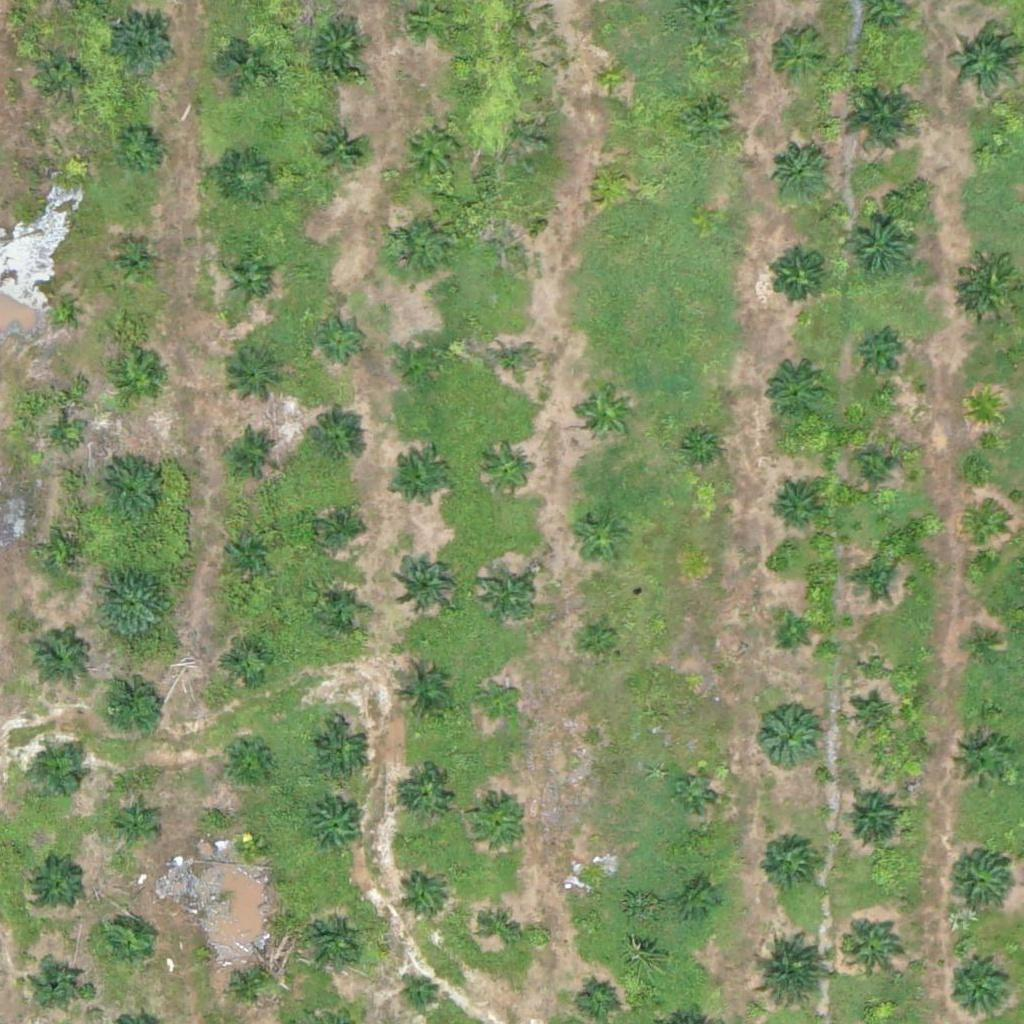Kelapa_Sawit: (839, 75, 926, 163), (92, 451, 167, 527), (96, 669, 171, 745), (96, 565, 171, 641), (947, 26, 1022, 102), (750, 938, 825, 1013), (842, 206, 917, 281), (756, 702, 819, 765), (25, 624, 88, 687), (567, 506, 630, 569), (310, 720, 373, 783), (765, 24, 828, 87), (768, 141, 831, 204), (959, 258, 1022, 321), (226, 344, 289, 407), (384, 215, 447, 278), (574, 383, 637, 446), (113, 13, 176, 76), (305, 413, 368, 476), (389, 451, 451, 514), (757, 829, 819, 892), (302, 912, 364, 975), (390, 664, 452, 727), (477, 565, 539, 628), (393, 548, 455, 611), (762, 361, 824, 424), (766, 244, 828, 307), (840, 786, 902, 849), (950, 730, 1012, 793), (948, 850, 1010, 913), (842, 915, 904, 978), (308, 17, 370, 80), (402, 118, 464, 181), (307, 799, 369, 861), (483, 444, 533, 495), (768, 482, 818, 533), (845, 552, 895, 603), (220, 152, 270, 203), (218, 34, 268, 85), (39, 50, 89, 101), (115, 123, 165, 174), (313, 123, 363, 174), (487, 338, 537, 389), (399, 336, 449, 387), (317, 313, 367, 364), (225, 255, 275, 306), (33, 955, 83, 1005), (36, 749, 86, 799), (32, 859, 82, 909), (222, 732, 272, 782), (221, 636, 271, 686), (403, 767, 453, 817), (473, 799, 523, 849), (99, 915, 149, 965), (849, 332, 899, 382), (114, 357, 164, 407), (682, 91, 732, 141), (226, 958, 276, 1008), (846, 695, 896, 745), (850, 446, 900, 496), (315, 502, 365, 552), (317, 586, 367, 636), (223, 522, 273, 572), (228, 427, 278, 477), (110, 240, 160, 290), (398, 871, 448, 921), (114, 805, 152, 843), (401, 973, 439, 1011), (965, 389, 1003, 427), (967, 511, 1005, 549), (966, 631, 1004, 669), (595, 61, 633, 99), (591, 161, 629, 199), (682, 432, 720, 470), (478, 684, 516, 722), (576, 867, 614, 905), (482, 909, 520, 947), (681, 883, 718, 921), (581, 981, 619, 1018), (773, 615, 810, 653), (498, 213, 535, 251), (581, 621, 618, 658), (676, 771, 713, 808), (54, 542, 79, 568), (975, 141, 1000, 166), (47, 297, 72, 322), (52, 425, 77, 450), (235, 833, 260, 858)
